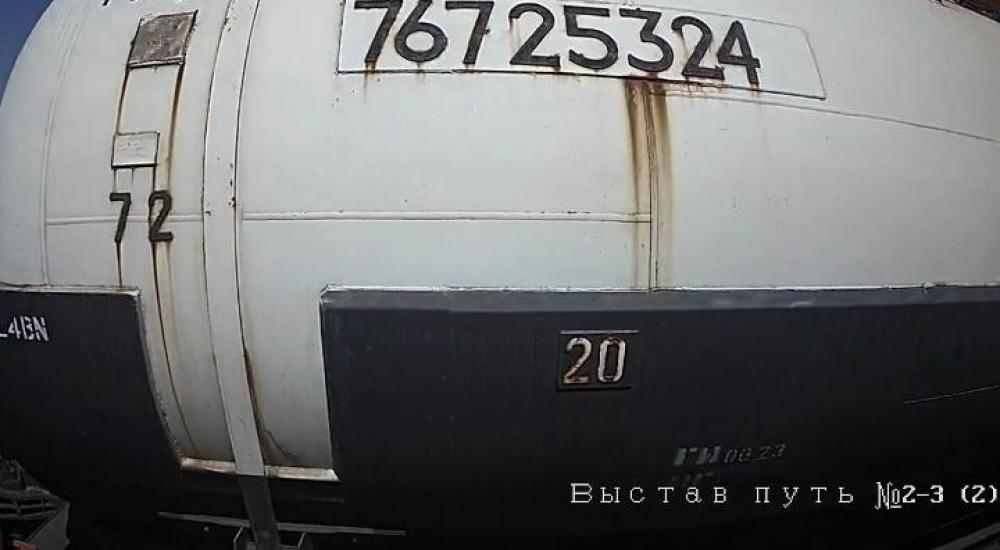Wagon-number: (351, 0, 771, 86)
